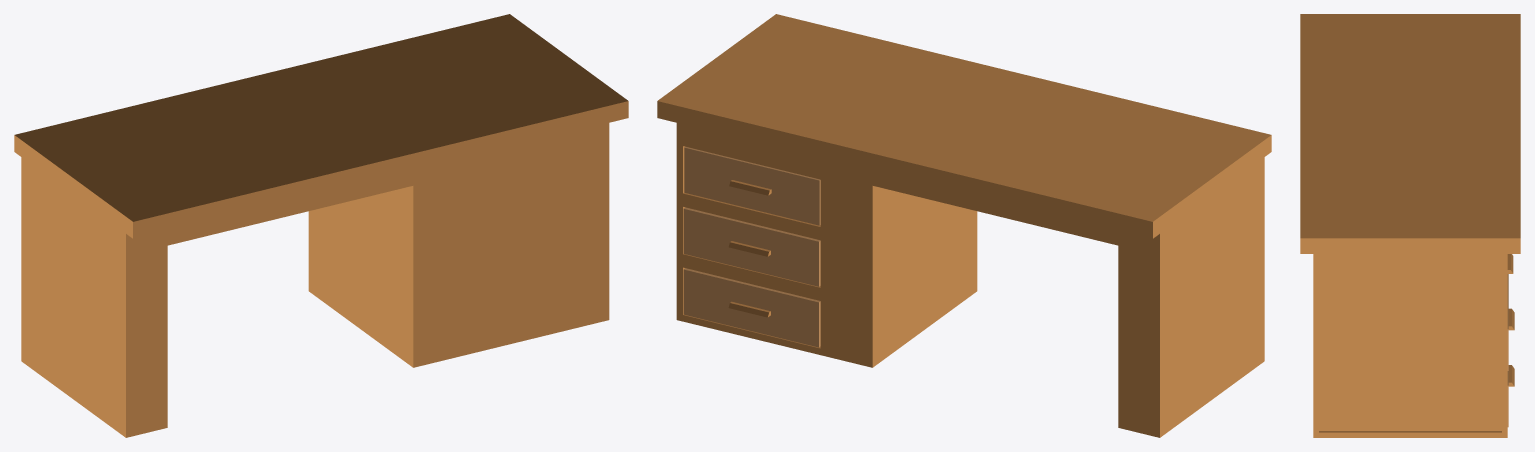
The model's file is Desk 2.fbx.
The picture shows the model from 3 angles, left to right: view 1: azimuth 30°, elevation 25°; view 2: azimuth 150°, elevation 25°; view 3: azimuth 270°, elevation 25°; orthographic projection. The views are drawn at different scales.
Parts seen in each view (by area): view 1: Desk 2; view 2: Desk 2; view 3: Desk 2.
Boxes of the visible parts, <box> form: Desk 2: <box>14,14,628,437</box>; Desk 2: <box>657,14,1271,437</box>; Desk 2: <box>1300,14,1520,437</box>.
Size of the model in its own units: 0.9027 by 0.9271 by 2.17.
